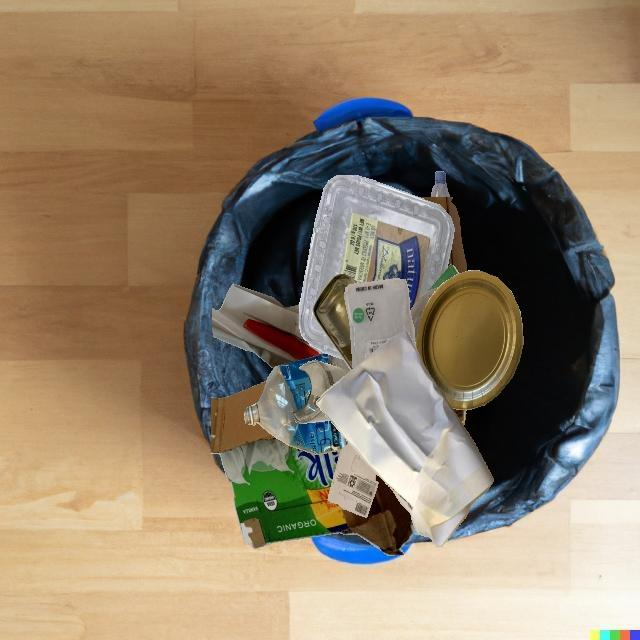cardboard: (211, 381, 414, 556), (419, 197, 466, 274)
glass: (312, 274, 357, 370), (292, 360, 350, 424)
paper: (317, 332, 494, 547), (415, 270, 523, 410), (212, 284, 326, 369), (327, 443, 379, 518), (426, 265, 459, 292)
plastic: (299, 175, 454, 359), (244, 353, 351, 455), (344, 278, 415, 369), (410, 287, 439, 347), (431, 171, 450, 197), (461, 411, 466, 426)
